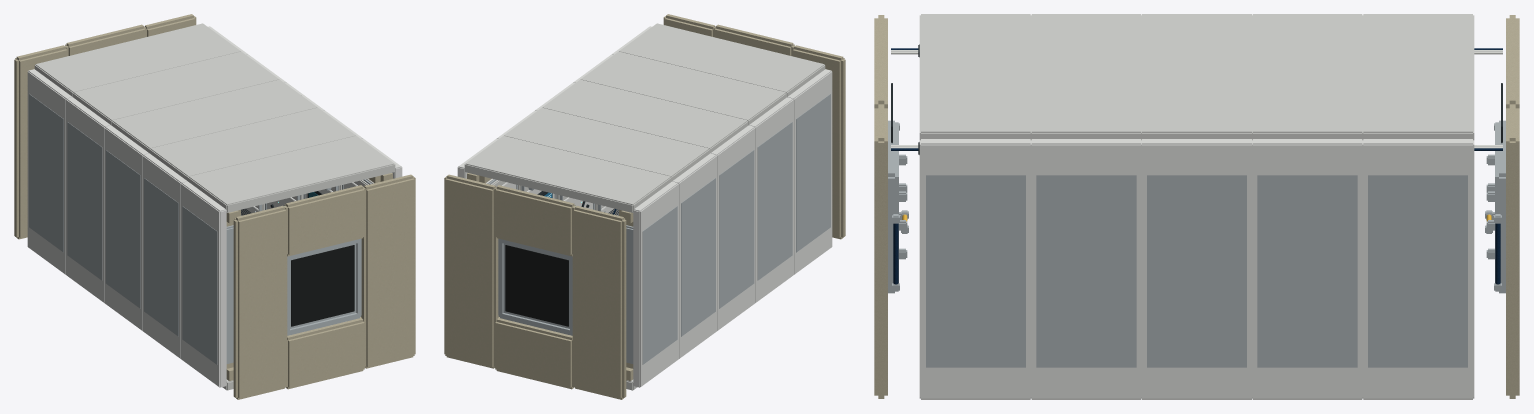
File: columbus_optimized.glb
3 views of the same model, side by side, from view 1: azimuth 30°, elevation 25°; view 2: azimuth 150°, elevation 25°; view 3: azimuth 270°, elevation 25° (orthographic). The views are drawn at different scales.
Visible parts, largest first — view 1: columbus_interior; view 2: columbus_interior; view 3: columbus_interior.
Part boxes in pixels (x1=…): columbus_interior: x1=14, y1=14, x2=415, y2=399; columbus_interior: x1=444, y1=14, x2=845, y2=399; columbus_interior: x1=874, y1=14, x2=1519, y2=399.
Bounding box in the file's own units: 3.1 × 3 × 6.54.
15 materials, 3 textured.
